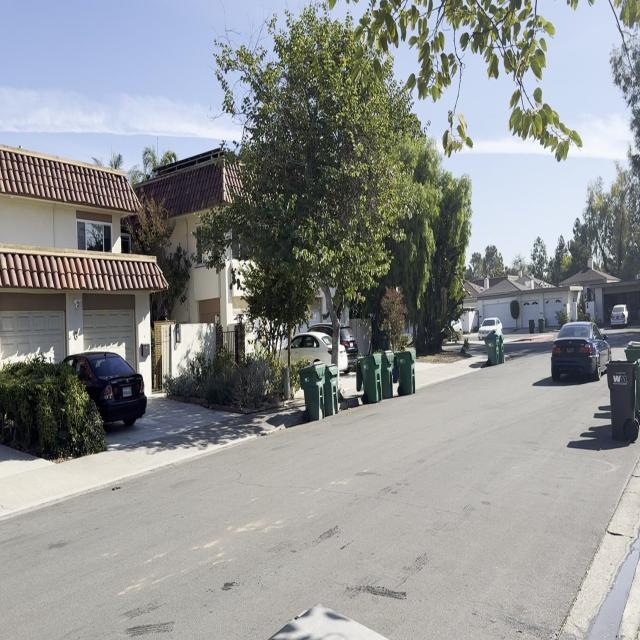Carbeetle: (545, 314, 614, 386)
Civilian: (52, 344, 154, 436), (272, 330, 363, 364), (471, 308, 504, 348), (608, 301, 628, 330)
